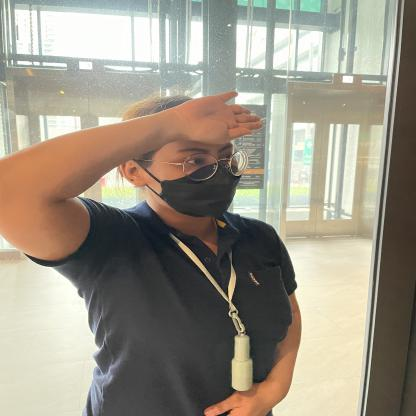Sick: (133, 77, 296, 147)
